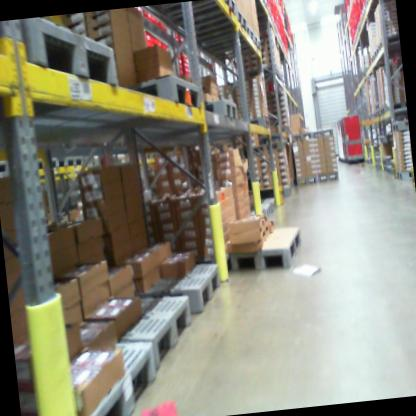pallet: (98, 251, 229, 395), (21, 327, 174, 416), (23, 11, 118, 109), (110, 66, 208, 132), (206, 222, 308, 285), (184, 10, 252, 44), (165, 0, 237, 25), (204, 29, 264, 59), (204, 90, 245, 130), (0, 21, 22, 77), (243, 131, 282, 157), (372, 32, 400, 57), (245, 202, 272, 223), (379, 98, 406, 117), (293, 172, 320, 189), (314, 169, 338, 185), (392, 168, 413, 186), (369, 51, 393, 65), (275, 182, 294, 198), (257, 195, 277, 210), (389, 117, 409, 132), (311, 128, 334, 141), (287, 129, 312, 139), (378, 131, 394, 144), (380, 154, 396, 165), (372, 45, 381, 58), (381, 164, 389, 175), (373, 101, 382, 110), (388, 166, 395, 177), (374, 109, 381, 119)
